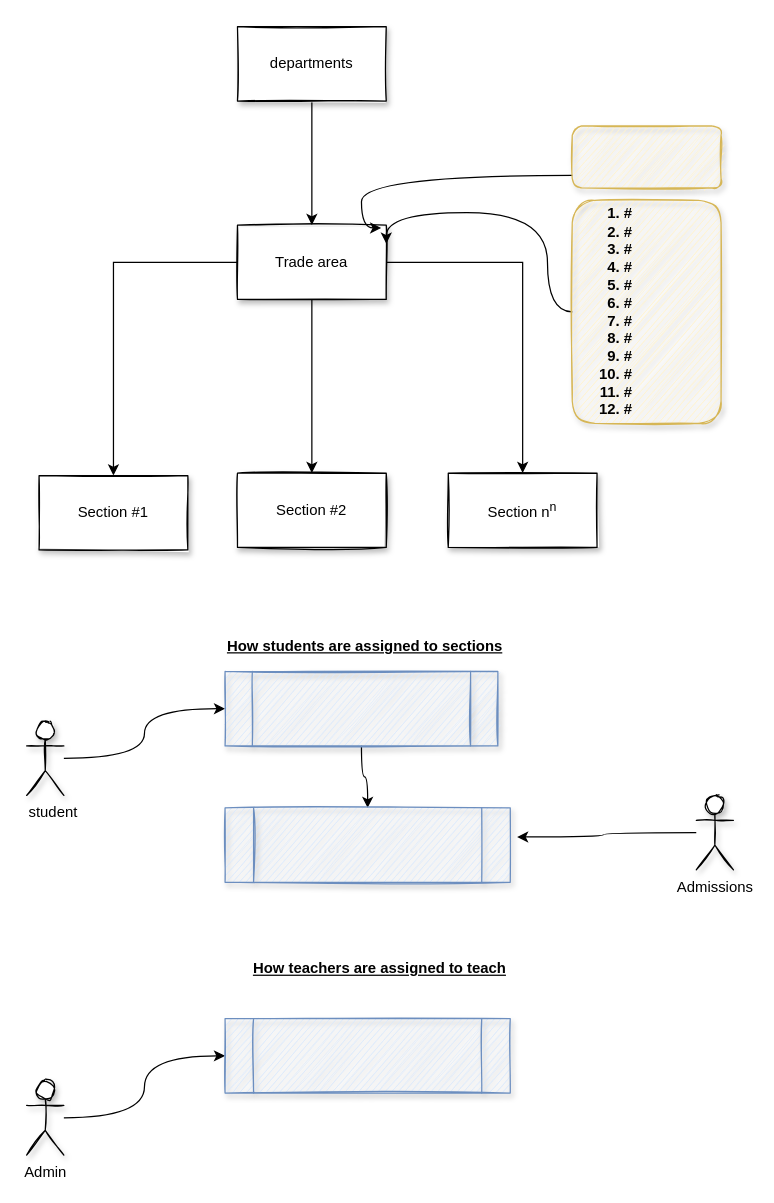
The diagram is 774 pixels wide and 1203 high, and some of its shapes have lost their labels. Each missing label, with the centre of its shape:
admin assigns teacher to trade area n , subject n and section n: pixel 368 1057
admission decides which section to add student to and add them: pixel 368 846
student apply for a specific trade area or more: pixel 362 710
Subjects: pixel 647 158
